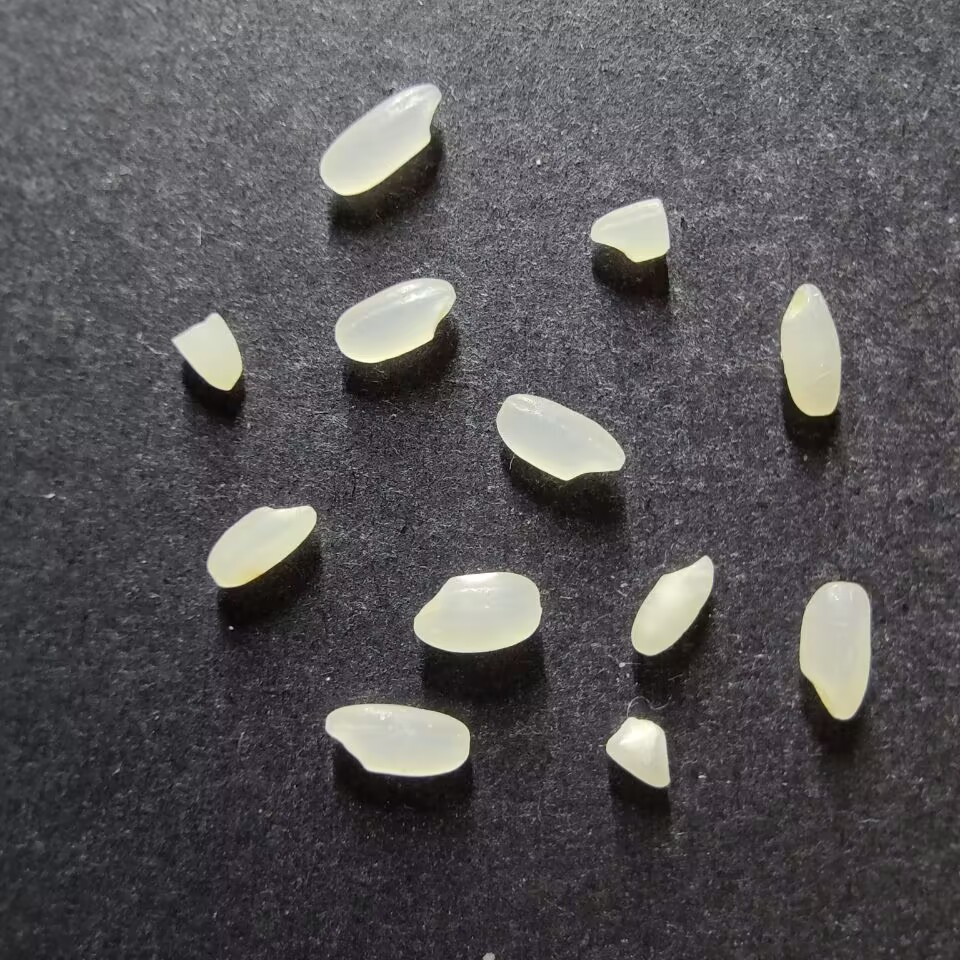broken: (172, 312, 242, 392), (589, 198, 670, 263), (604, 718, 671, 788)
rice: (318, 83, 442, 195), (495, 393, 626, 481), (324, 703, 470, 777), (334, 277, 455, 363), (413, 572, 541, 653), (798, 580, 871, 720), (205, 505, 316, 588), (630, 554, 714, 656), (779, 283, 842, 417)
